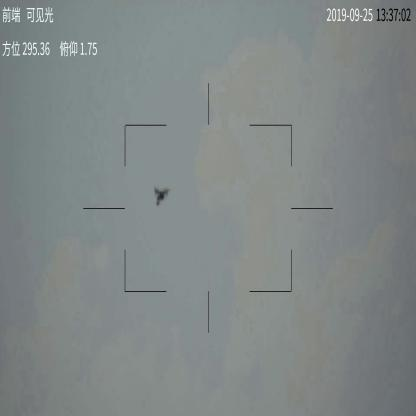uav: (153, 185, 172, 206)
